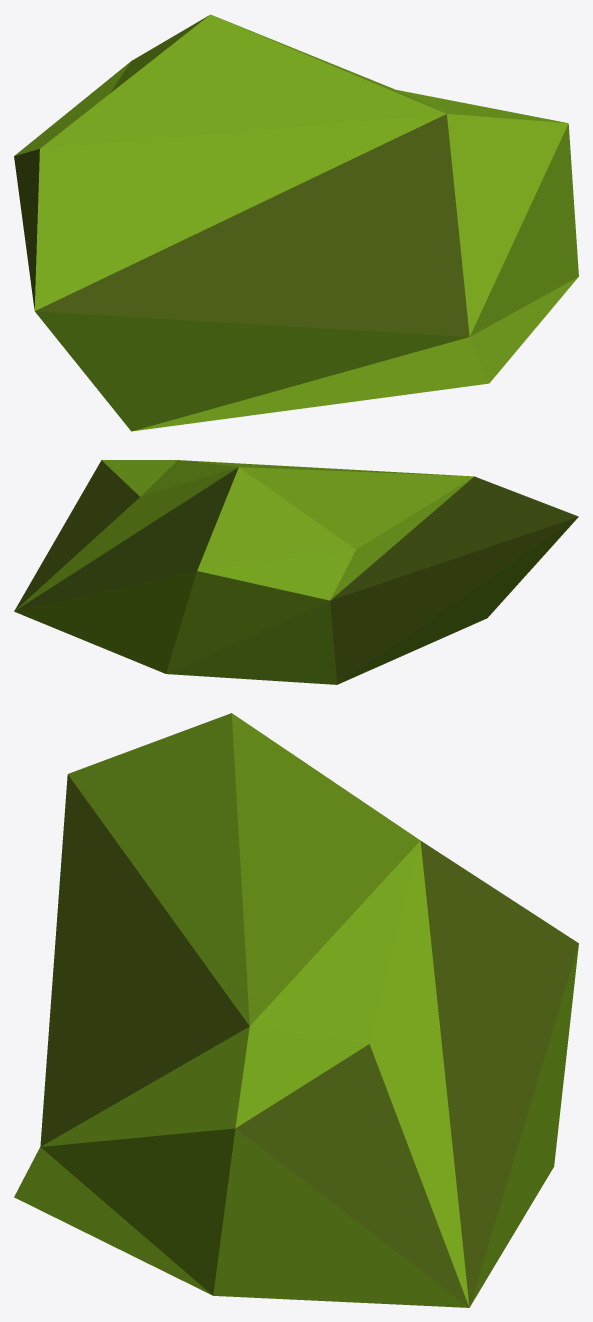
The model's file is Plant_M1_2.fbx.
3 renders of one model, top to bottom at view 1: azimuth 30°, elevation 25°; view 2: azimuth 150°, elevation 25°; view 3: azimuth 270°, elevation 25°, orthographic. The views are drawn at different scales.
Parts seen in each view (by area): view 1: Plant_M1_2; view 2: Plant_M1_2; view 3: Plant_M1_2.
Boxes of the visible parts, left/top/right/bottom form: Plant_M1_2: left=14, top=14, right=578, bottom=431; Plant_M1_2: left=14, top=460, right=578, bottom=684; Plant_M1_2: left=14, top=713, right=578, bottom=1307.
Bounding box in the file's own units: 144 × 57.73 × 98.29.
